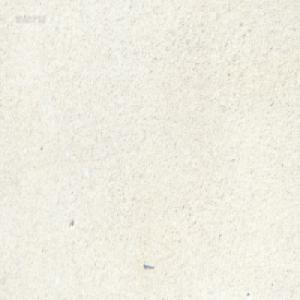Nail: (143, 261, 153, 269)
